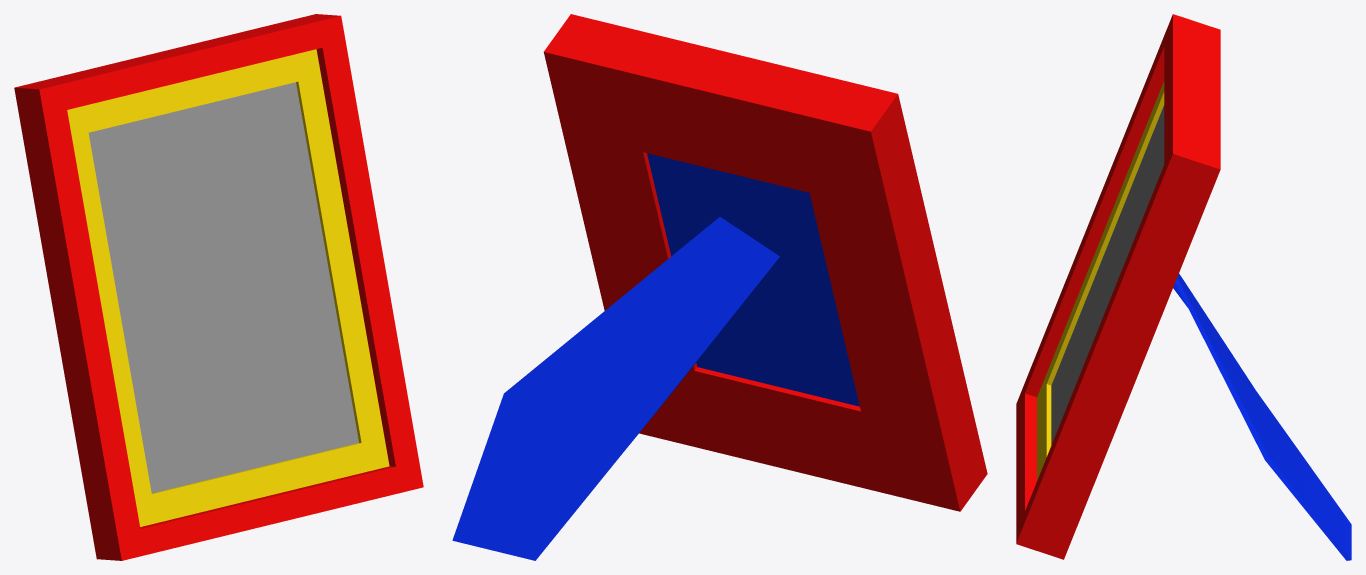
File: PhotoFrame.fbx
3 views of the same model, side by side, from view 1: azimuth 30°, elevation 25°; view 2: azimuth 150°, elevation 25°; view 3: azimuth 270°, elevation 25° (orthographic). The views are drawn at different scales.
Parts seen in each view (by area): view 1: Photo; view 2: Photo; view 3: Photo.
Boxes of the visible parts, x1,y1,x2,y2 form: Photo: [14, 14, 423, 560]; Photo: [452, 14, 987, 560]; Photo: [1016, 14, 1351, 560].
Bounding box in the file's own units: 13.72 × 17.6 × 13.18.
